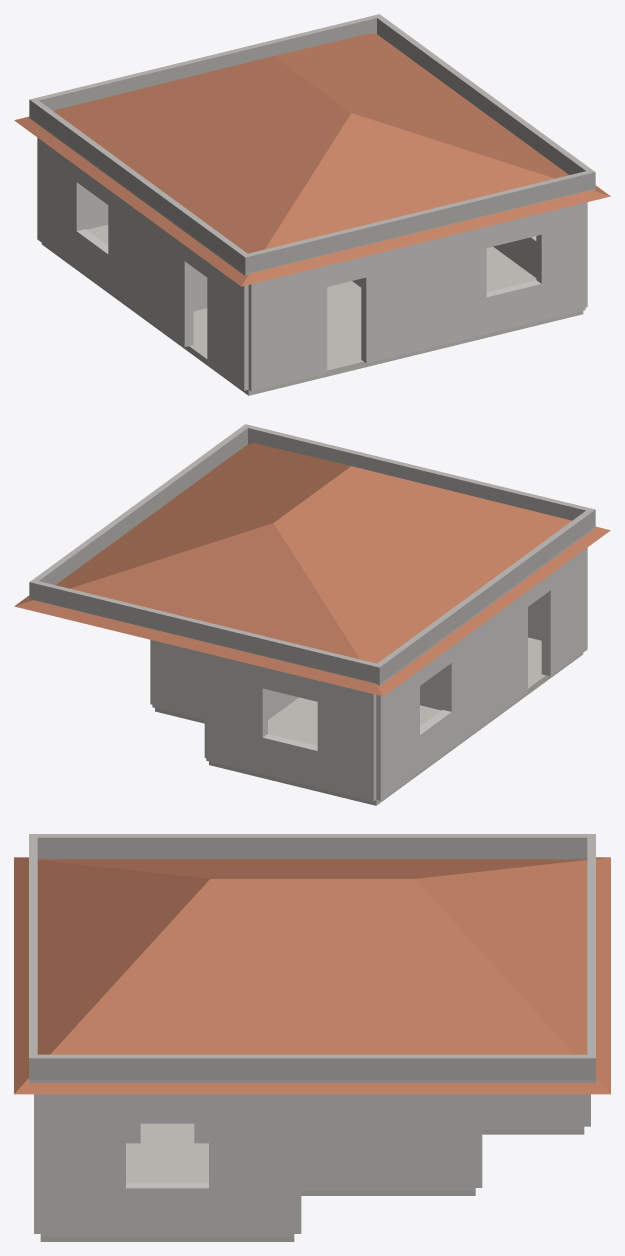
3 views of the same model, one above another, from view 1: azimuth 30°, elevation 25°; view 2: azimuth 150°, elevation 25°; view 3: azimuth 270°, elevation 25° (orthographic). The views are drawn at different scales.
Parts seen in each view (by area): view 1: roof_tiles, walls, roof_flat, room_living, room_kitchen, room_master_bed; view 2: roof_tiles, walls, roof_flat, room_master_bed, room_living; view 3: roof_tiles, walls, roof_flat, room_kitchen, room_living, room_attached_bath, room_master_bed.
Part boxes in pixels (x1,y1,x2,y2): roof_tiles: (14, 33, 610, 286); walls: (37, 137, 587, 391); roof_flat: (29, 14, 595, 275); room_living: (152, 281, 439, 395); room_kitchen: (440, 246, 583, 348); room_master_bed: (41, 224, 151, 324); roof_tiles: (14, 443, 610, 696); walls: (150, 547, 587, 801); roof_flat: (29, 424, 595, 685); room_master_bed: (209, 697, 486, 805); room_living: (486, 637, 583, 724); roof_tiles: (14, 857, 610, 1094); walls: (34, 1094, 590, 1236); roof_flat: (29, 834, 595, 1082); room_kitchen: (40, 1142, 294, 1241); room_living: (140, 1123, 194, 1141); room_attached_bath: (301, 1191, 475, 1195); room_master_bed: (482, 1129, 584, 1134).
Bounding box in the file's own units: 9.43 × 4.75 × 10.04.
